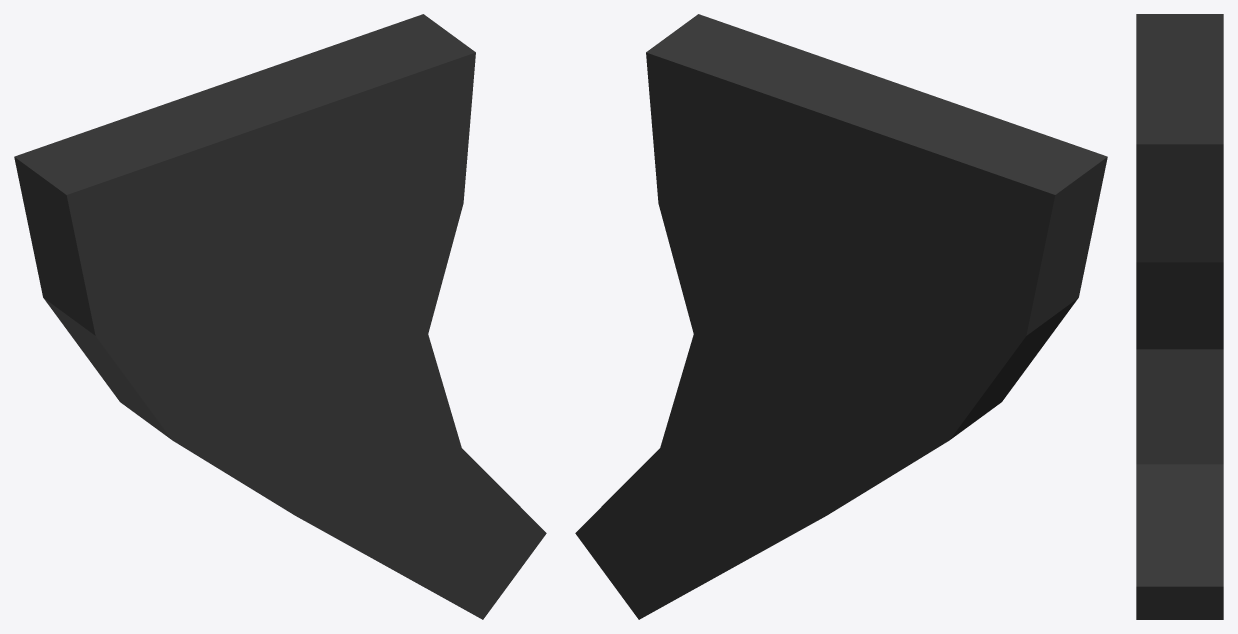
File: SM_Weapon_01_3.fbx
3 renders of one model, left to right at view 1: azimuth 30°, elevation 25°; view 2: azimuth 150°, elevation 25°; view 3: azimuth 270°, elevation 25°, orthographic. The views are drawn at different scales.
Parts seen in each view (by area): view 1: SM_Weapon_01_3; view 2: SM_Weapon_01_3; view 3: SM_Weapon_01_3.
Boxes of the visible parts, x1,y1,x2,y2 form: SM_Weapon_01_3: (14, 14, 546, 619); SM_Weapon_01_3: (575, 14, 1107, 619); SM_Weapon_01_3: (1136, 14, 1223, 619).
Bounding box in the file's own units: 0.0272 × 0.0309 × 0.00516.
Materials: 1 (1 with a texture image).
